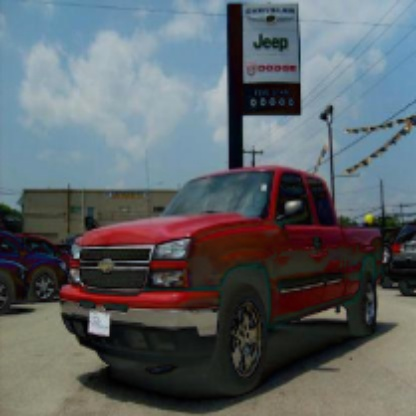Vehicle: (58, 165, 385, 398)
